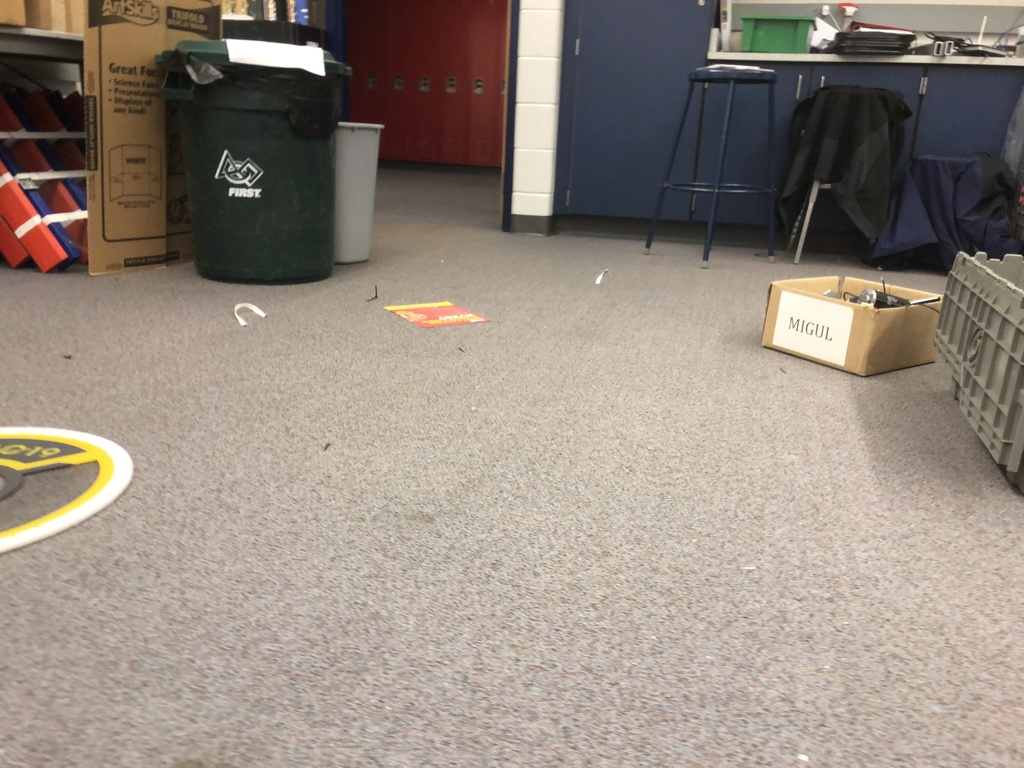hatch_panel: (1, 418, 160, 577)
